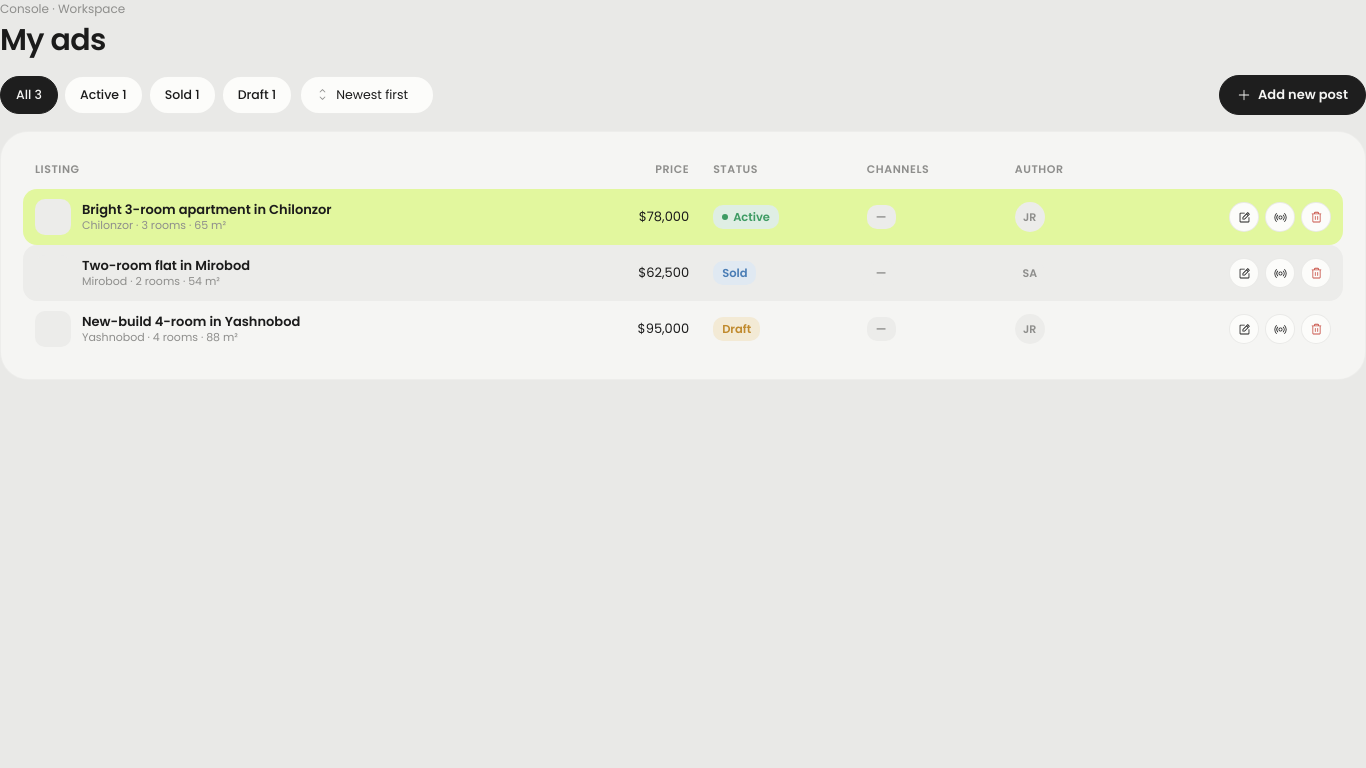
Scenario: MyAdsScreen — populated › opens a confirm dialog on delete, cancels without mutating, then confirms and mutates
Click the button named "Delete ".
click(1316, 217)  # box [1301,202,1331,232]
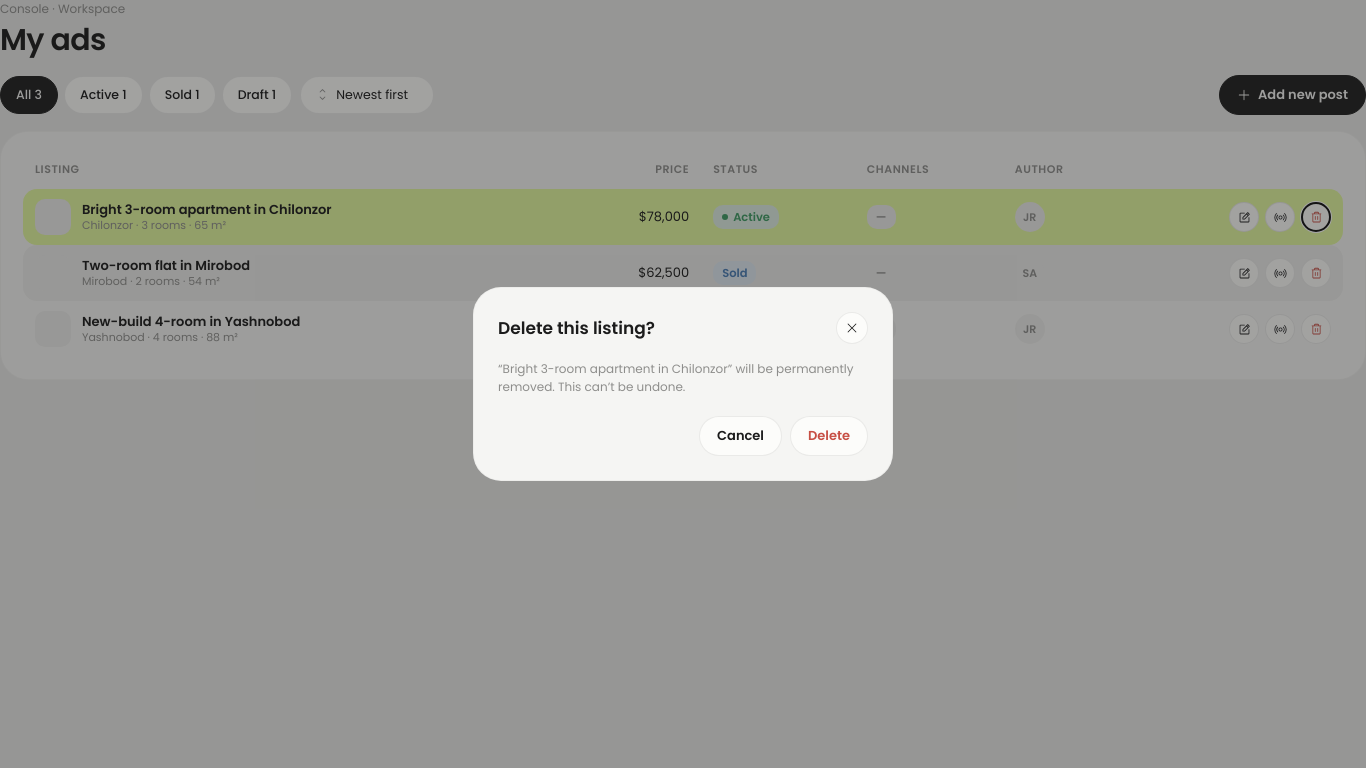
Now the dialog is shown, box [473,287,893,481]
Click the button "Cancel".
click(741, 436)  # box [699,416,782,456]
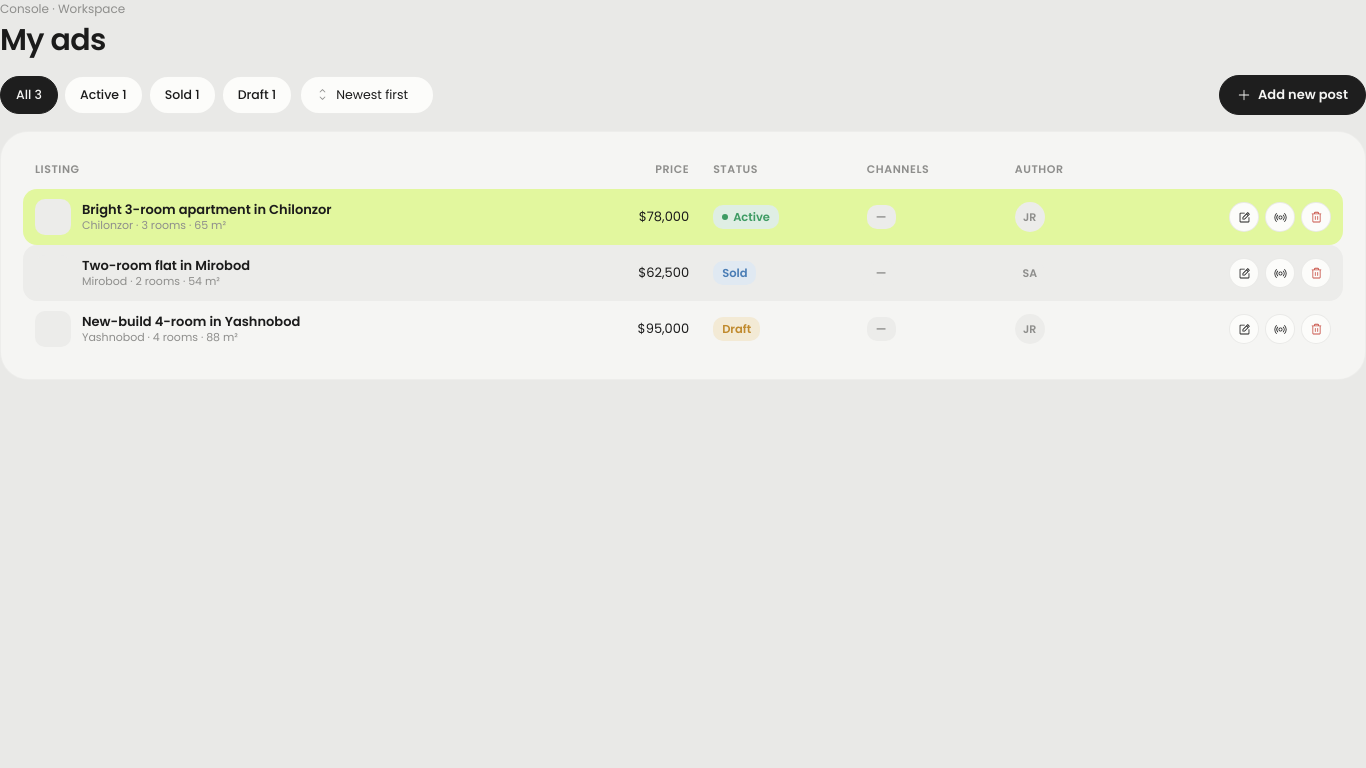
Now the dialog is gone
Click the button named "Delete ".
click(1316, 217)  # box [1301,202,1331,232]
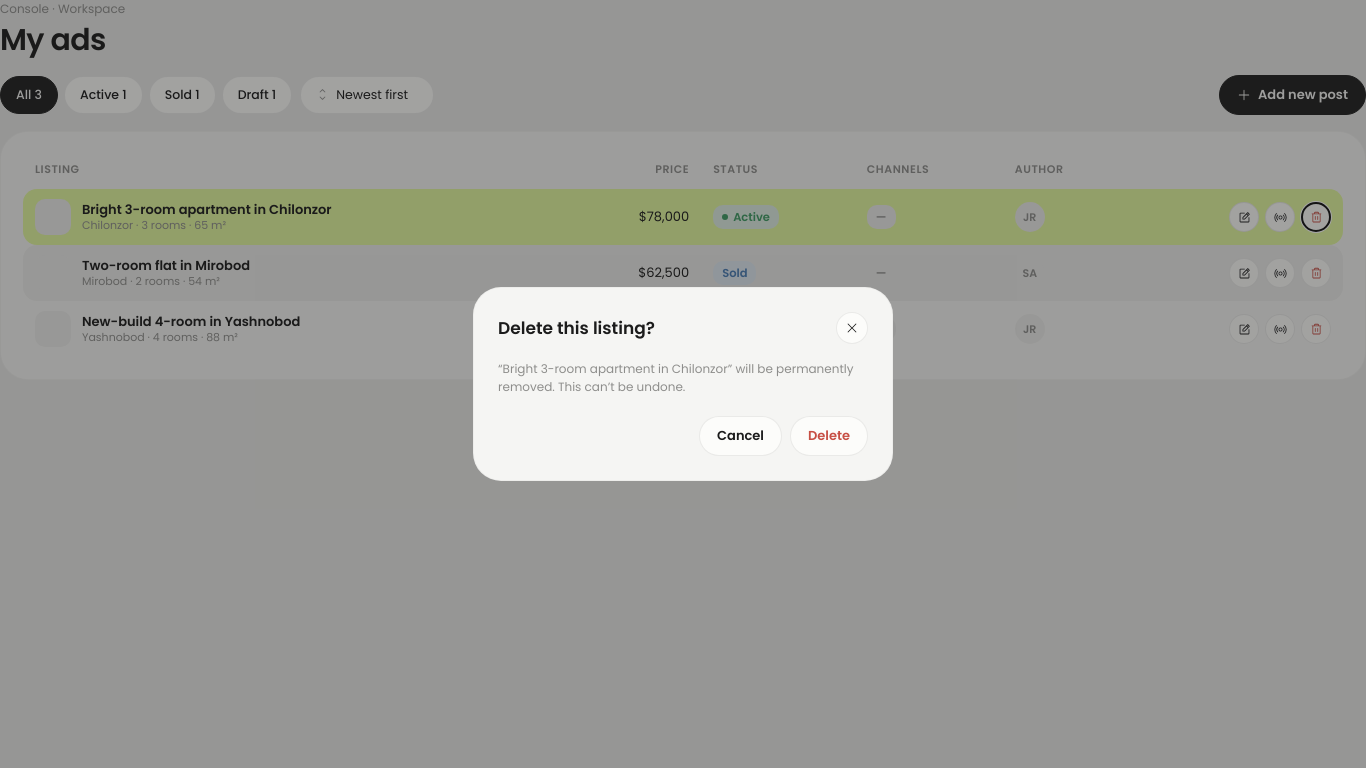
Click the button "Delete".
click(829, 436)  # box [790,416,868,456]
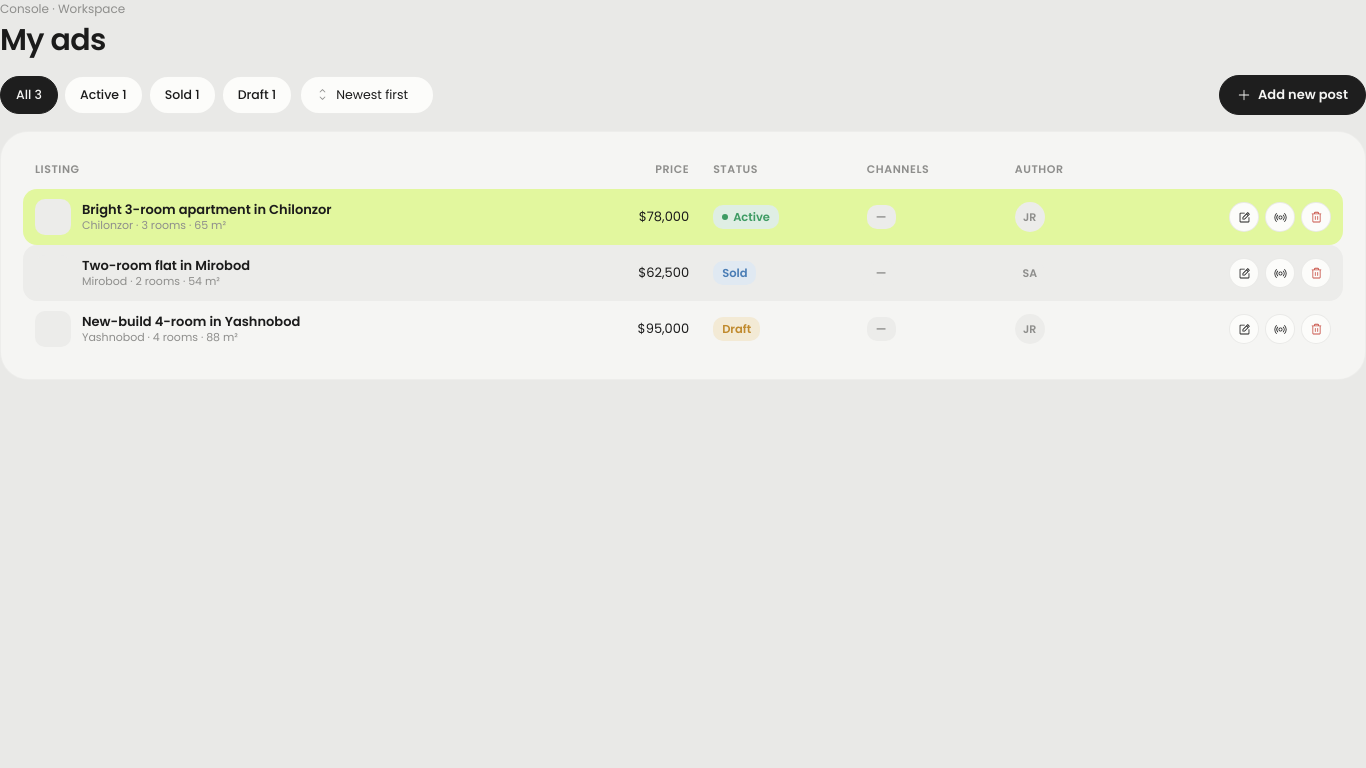
Now the dialog is gone
